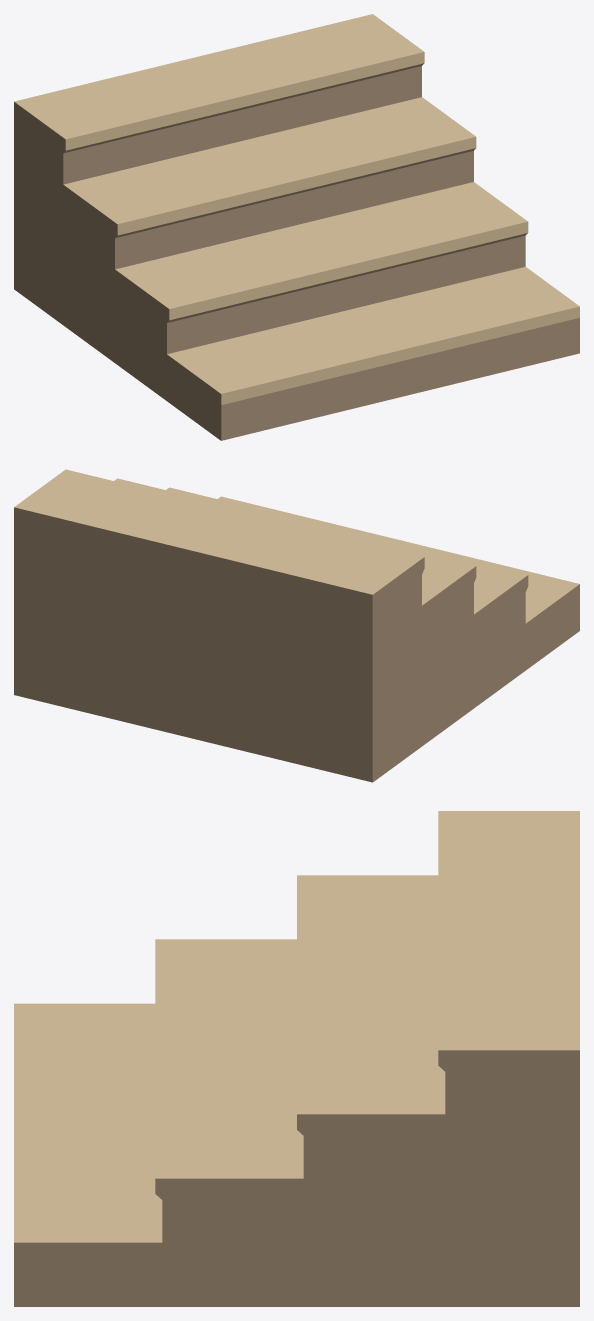
Rendered from terrace_steps.glb.
3 renders of one model, top to bottom at view 1: azimuth 30°, elevation 25°; view 2: azimuth 150°, elevation 25°; view 3: azimuth 270°, elevation 25°, orthographic. The views are drawn at different scales.
Parts seen in each view (by area): view 1: Terrace steps; view 2: Terrace steps; view 3: Terrace steps.
Boxes of the visible parts, <box> form: Terrace steps: <box>14,14,579,440</box>; Terrace steps: <box>14,469,579,782</box>; Terrace steps: <box>14,811,579,1306</box>.
Size of the model in its own units: 1 by 0.5 by 1.
